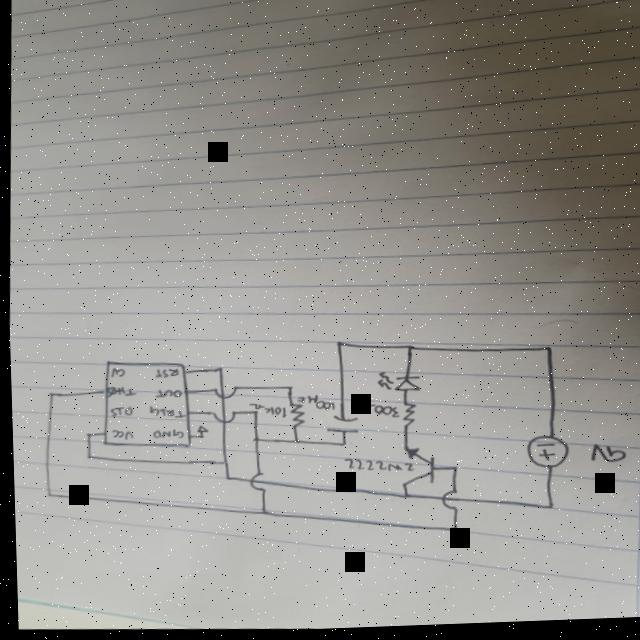capacitor: (324, 414, 359, 439)
crossover: (244, 471, 266, 496), (437, 491, 458, 516), (209, 409, 236, 427), (209, 384, 236, 402)
diode: (372, 372, 422, 398)
ground: (192, 426, 208, 436)
junction: (401, 345, 414, 356), (539, 506, 553, 516), (540, 348, 553, 358), (444, 528, 458, 537), (333, 342, 345, 351), (247, 438, 260, 446), (282, 385, 292, 394), (42, 491, 52, 499), (45, 391, 55, 399), (256, 510, 266, 518), (81, 453, 91, 461), (81, 432, 91, 440), (398, 496, 408, 504), (447, 469, 457, 477), (218, 460, 227, 468), (247, 411, 259, 417), (336, 444, 346, 451), (214, 368, 222, 376), (221, 476, 229, 484), (290, 440, 299, 447), (196, 436, 202, 442)
resistor: (280, 403, 306, 432), (396, 402, 416, 432)
source: (520, 437, 570, 477)
text: (340, 457, 413, 478), (356, 402, 402, 425), (584, 447, 624, 470), (294, 398, 334, 416), (146, 405, 184, 421), (103, 386, 135, 400), (262, 406, 287, 423), (150, 429, 182, 441), (106, 405, 132, 419), (152, 368, 178, 381), (153, 389, 181, 401), (108, 429, 132, 443), (108, 367, 124, 380)
transistor: (397, 449, 435, 491)
